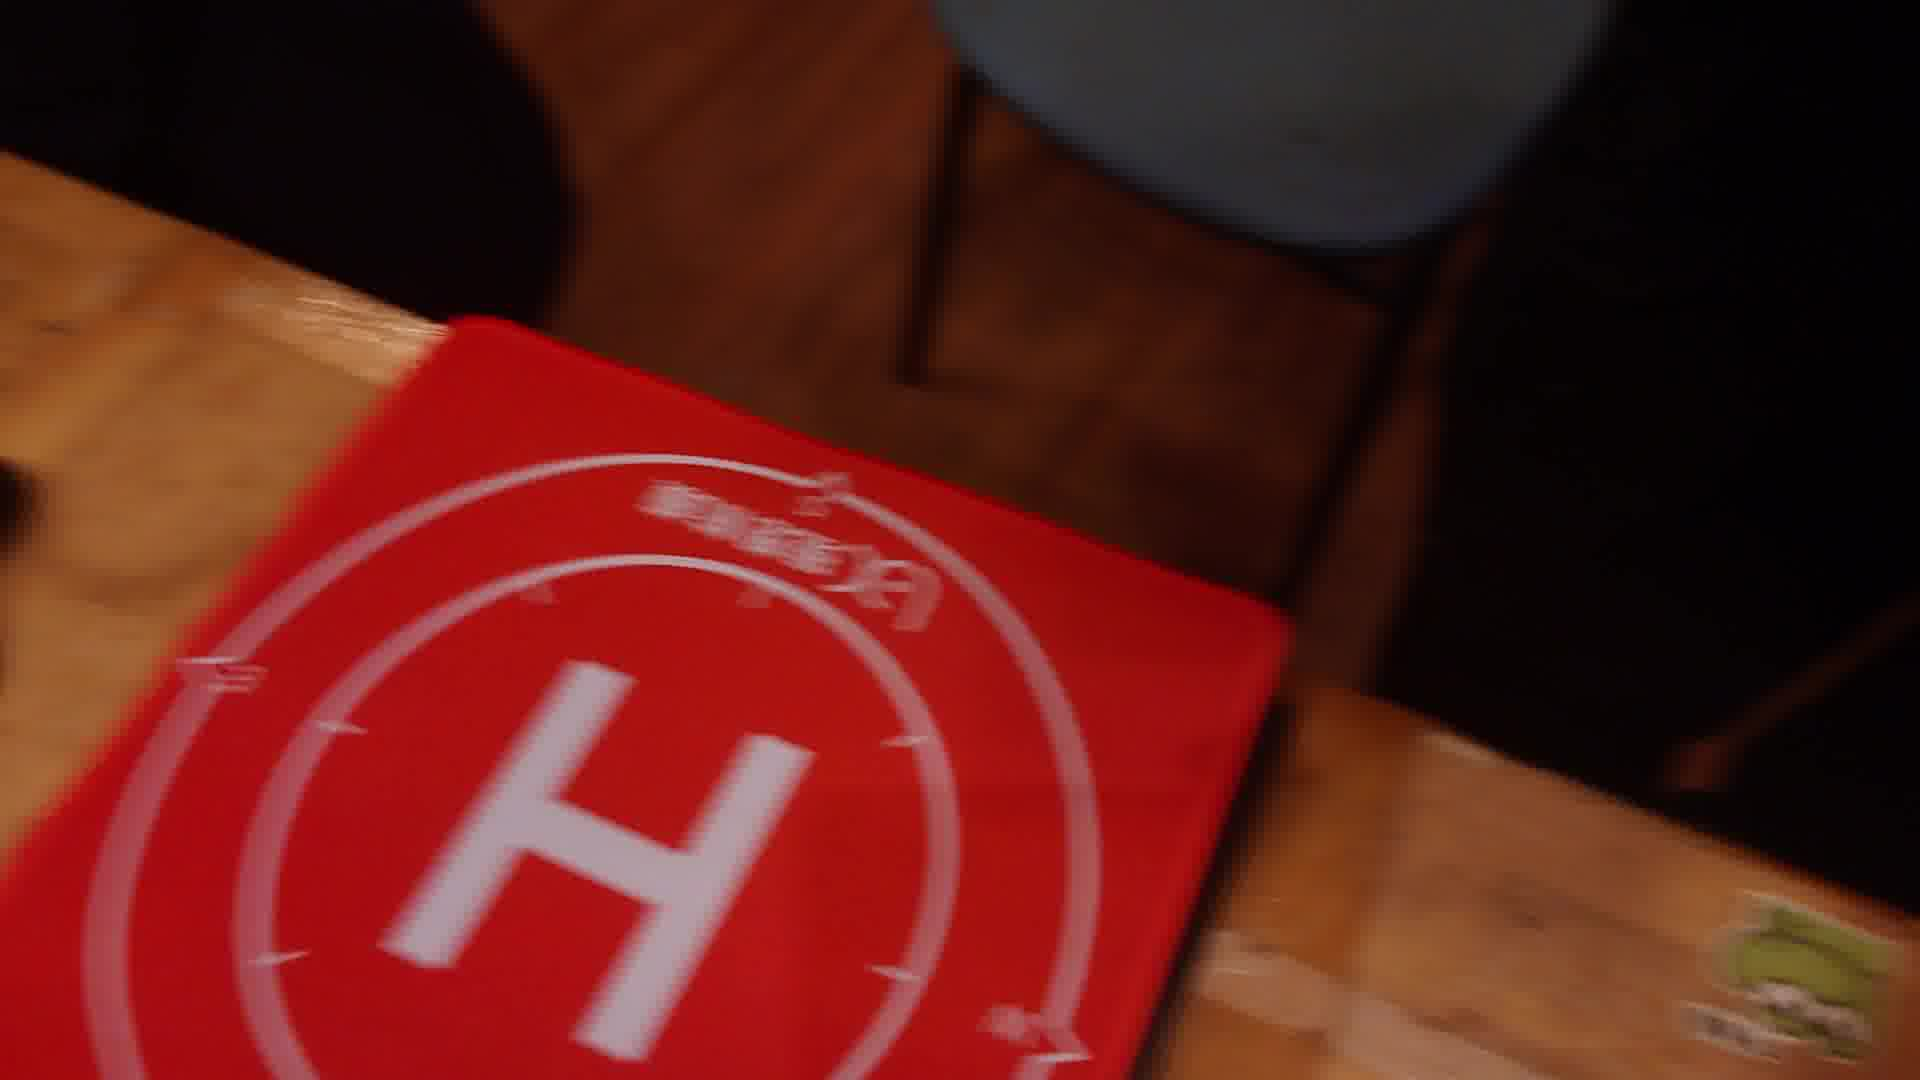H: (381, 661, 825, 1063)
